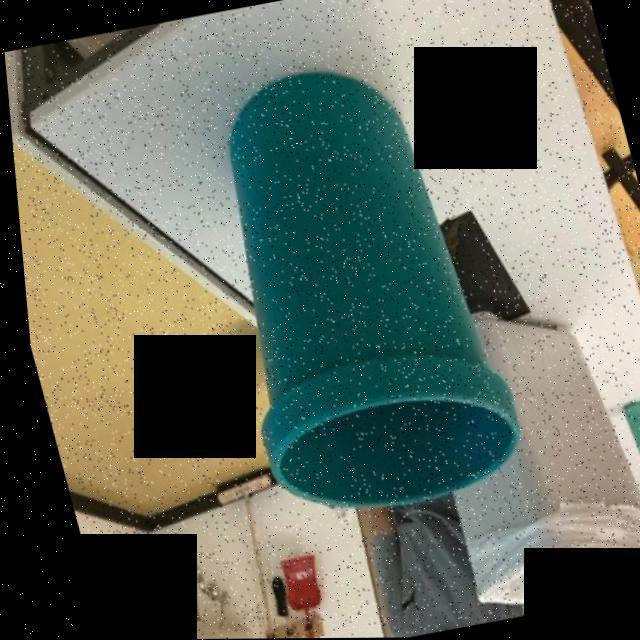bin: (152, 39, 544, 550), (383, 283, 640, 626)
